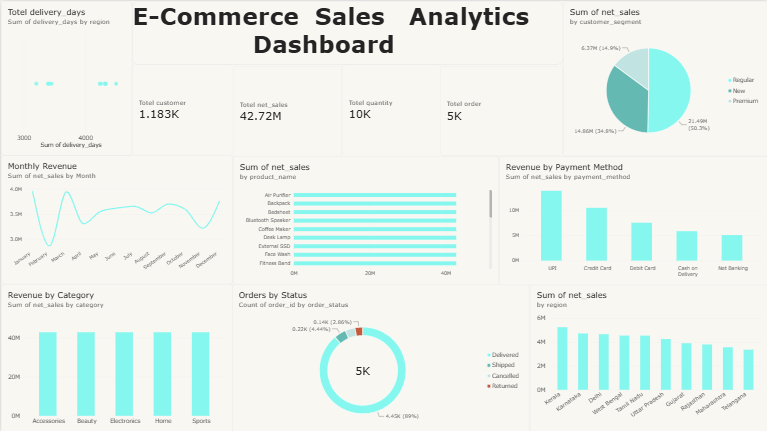

This screenshot's page, from the dashboard's own definition file:
{"tool":"powerbi","page":{"name":"Page 1","canvas":[1920,1080],"ordinal":0},"visuals":[{"type":"cardVisual","fields":{"Data":["Sum(orders.net_sales)"]},"box":[579.5,161.3,272.1,226.8],"z":0},{"type":"cardVisual","fields":{"Data":["Count(orders.order_id)"]},"box":[1098.6,161.3,307.4,224.3],"z":1000},{"type":"cardVisual","fields":{"Data":["Count(orders.customer_id)"]},"box":[327.6,158.7,252,226.8],"z":2000},{"type":"cardVisual","fields":{"Data":["Sum(orders.quantity)"]},"box":[851.7,158.7,246.9,226.8],"z":3000},{"type":"lineChart","title":"Monthly Revenue","fields":{"Category":["orders.order_date.Variation.Date Hierarchy.Month"],"Y":["Sum(orders.net_sales)"]},"box":[0,385,580,322.5],"z":4000},{"type":"clusteredColumnChart","fields":{"Category":["orders.region"],"Y":["Sum(orders.net_sales)"]},"box":[1322.5,707.5,597.5,372.5],"z":5000},{"type":"clusteredColumnChart","title":"Revenue by Category","fields":{"Category":["products.category"],"Y":["Sum(orders.net_sales)"]},"box":[0,707.5,580,372.5],"z":6000},{"type":"clusteredBarChart","fields":{"Category":["products.product_name"],"Y":["Sum(orders.net_sales)"]},"box":[579.5,388,665.2,322.5],"z":7000},{"type":"donutChart","title":"Orders by Status","fields":{"Category":["orders.order_status"],"Y":["CountNonNull(orders.order_id)"]},"box":[577,708,743.3,372.9],"z":8000},{"type":"clusteredColumnChart","title":"Revenue by Payment Method","fields":{"Category":["orders.payment_method"],"Y":["Sum(orders.net_sales)"]},"box":[1244.7,388,675.3,322.5],"z":9000},{"type":"textbox","box":[327.6,0,1078.4,158.7],"z":10000},{"type":"scatterChart","title":"Totel delivery_days","fields":{"X":["Sum(orders.delivery_days)"],"Category":["orders.region"]},"box":[0,0,327.6,385.5],"z":11000},{"type":"pieChart","fields":{"Category":["customers.customer_segment"],"Y":["Sum(orders.net_sales)"]},"box":[1406,0,514,388],"z":11001}]}

Visuals, with their boxes in screenshot pixels (x1, y1, x2, y2), scaled from the page's 1920x1080 canvas onto the 767x431 screenshot:
cardVisual - Sum(orders.net_sales): [x1=231, y1=64, x2=340, y2=155]
cardVisual - Count(orders.order_id): [x1=439, y1=64, x2=562, y2=154]
cardVisual - Count(orders.customer_id): [x1=131, y1=63, x2=232, y2=154]
cardVisual - Sum(orders.quantity): [x1=340, y1=63, x2=439, y2=154]
"Monthly Revenue" lineChart: [x1=0, y1=154, x2=232, y2=282]
clusteredColumnChart - orders.region x Sum(orders.net_sales): [x1=528, y1=282, x2=766, y2=430]
"Revenue by Category" clusteredColumnChart: [x1=0, y1=282, x2=232, y2=430]
clusteredBarChart - products.product_name x Sum(orders.net_sales): [x1=231, y1=155, x2=497, y2=284]
"Orders by Status" donutChart: [x1=230, y1=283, x2=527, y2=430]
"Revenue by Payment Method" clusteredColumnChart: [x1=497, y1=155, x2=766, y2=284]
textbox: [x1=131, y1=0, x2=562, y2=63]
"Totel delivery_days" scatterChart: [x1=0, y1=0, x2=131, y2=154]
pieChart - customers.customer_segment x Sum(orders.net_sales): [x1=562, y1=0, x2=766, y2=155]
